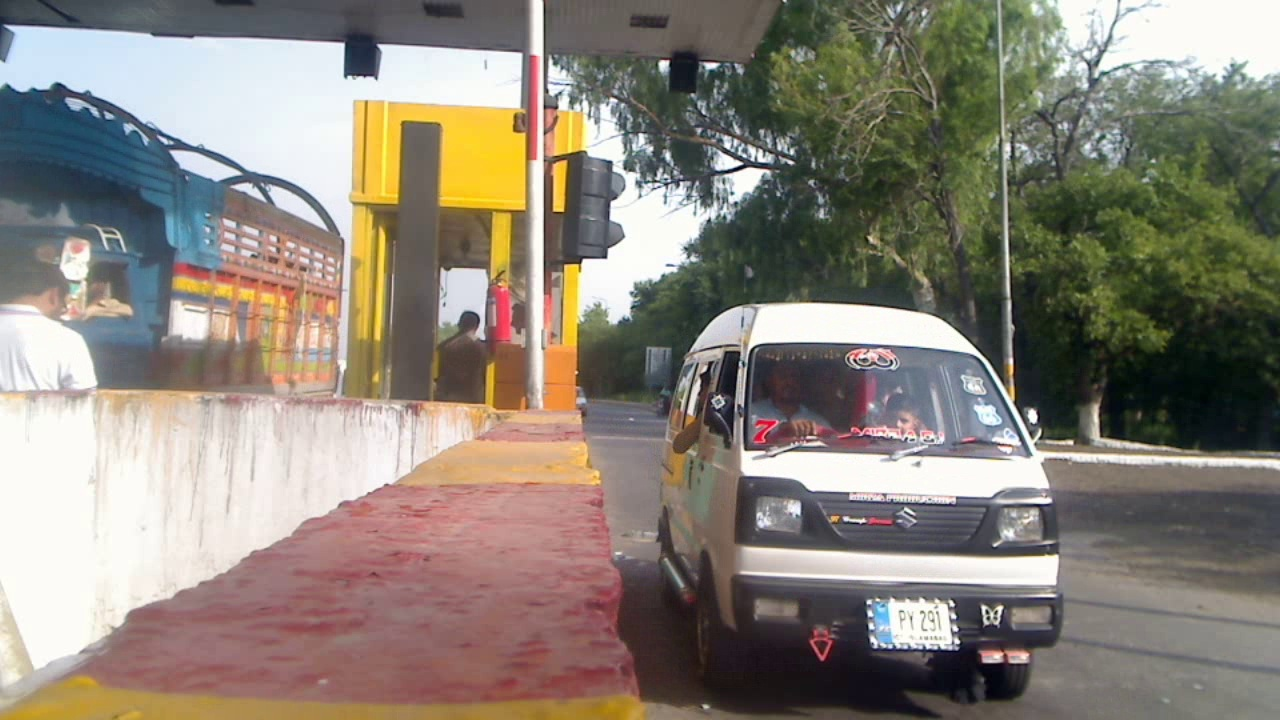Number Plate (Car): (874, 604, 950, 642)
